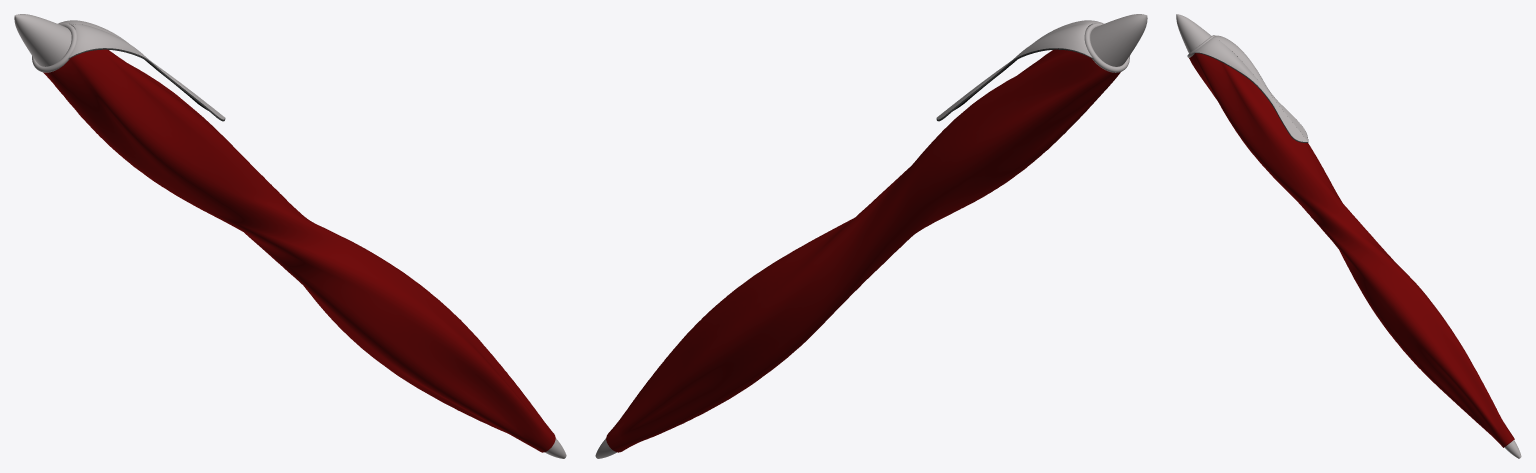
Rendered from sabrettapen.glb.
The picture shows the model from 3 angles, left to right: view 1: azimuth 30°, elevation 25°; view 2: azimuth 150°, elevation 25°; view 3: azimuth 330°, elevation 25°; orthographic projection. The views are drawn at different scales.
Size of the model in its own units: 0.2882 by 0.2883 by 0.0381.
